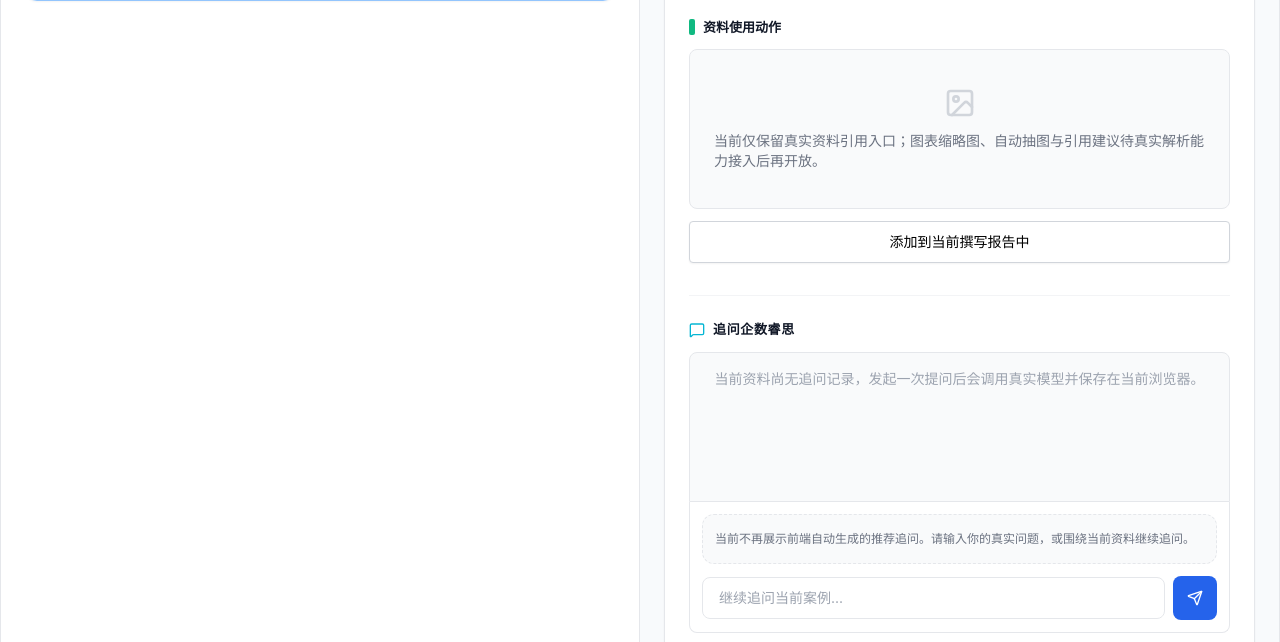
Scenario: Search empty state › uses real sdk document chat flow when available
The image size is (1280, 642).
(page scrolled)
Type "这份资料里最值得复用的诊断框架是什么？" into the field with placeholder "继续追问当前案例...".
click(934, 598); type("这份资料里最值得复用的诊断框架是什么？")  # box [702, 576, 1165, 618]
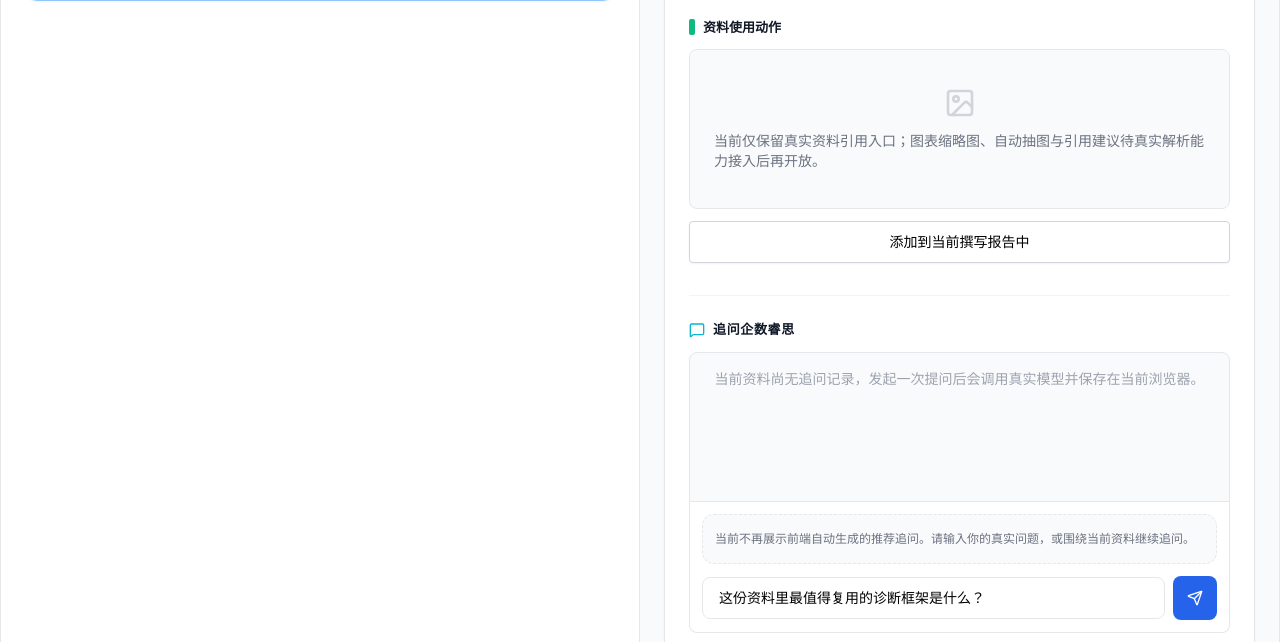
Click the 3rd button.
click(1195, 598)  # box [1173, 576, 1217, 620]
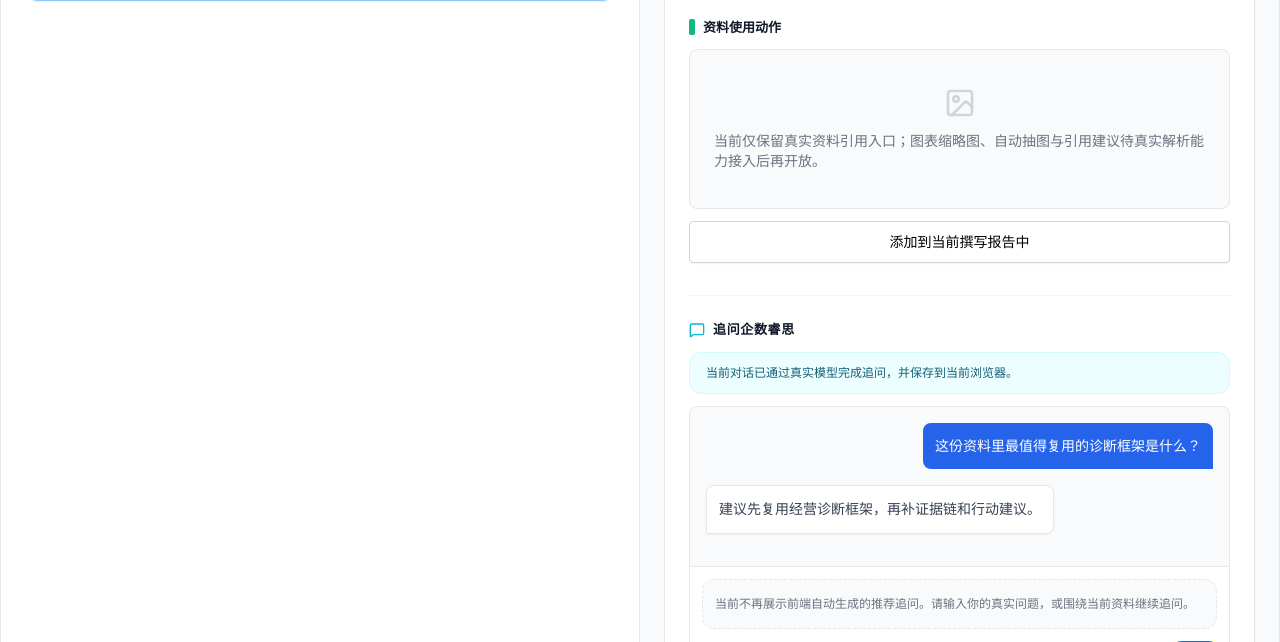
Now the text "建议先复用经营诊断框架，再补证据链和行动建议。" is shown, box [719, 498, 1041, 521]
